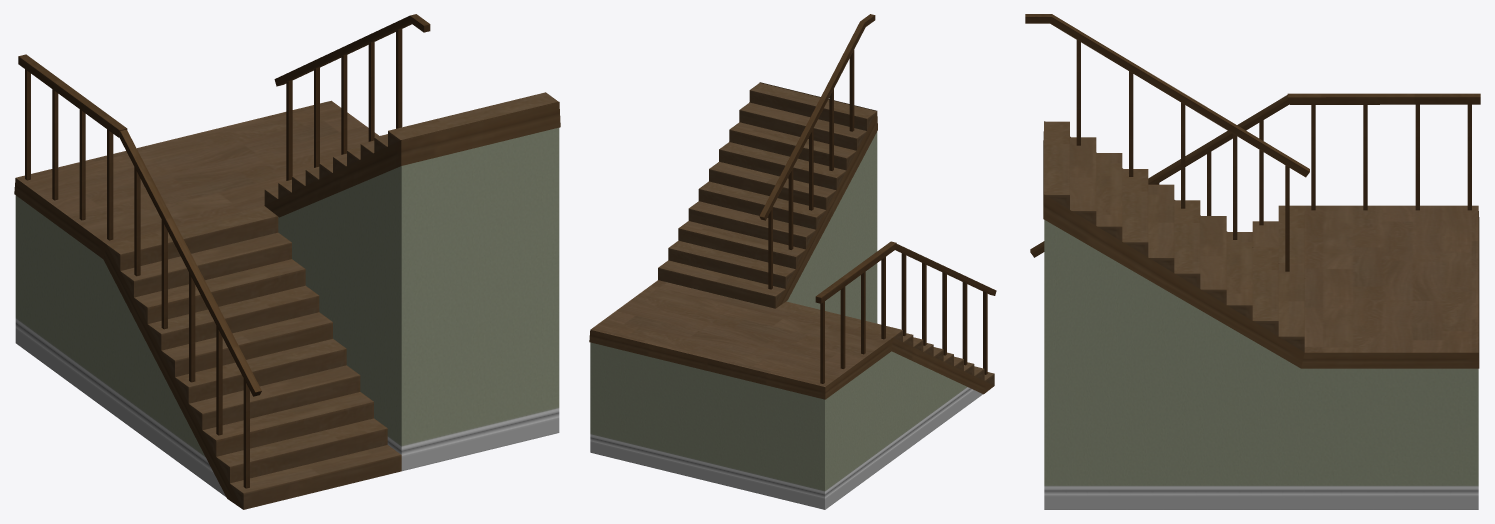
The model's file is stairs4.fbx.
The picture shows the model from 3 angles, left to right: view 1: azimuth 30°, elevation 25°; view 2: azimuth 150°, elevation 25°; view 3: azimuth 270°, elevation 25°; orthographic projection. The views are drawn at different scales.
Visible parts, largest first — view 1: stairs_wide_left; view 2: stairs_wide_left; view 3: stairs_wide_left.
Part boxes in pixels (bbox=[...]): stairs_wide_left: bbox=[14, 14, 560, 509]; stairs_wide_left: bbox=[589, 14, 996, 509]; stairs_wide_left: bbox=[1025, 14, 1480, 509].
Bounding box in the file's own units: 402 × 544 × 524.
